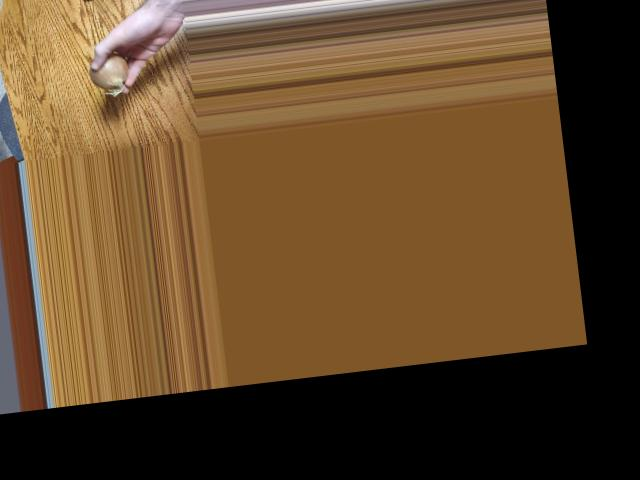onion: (87, 50, 128, 91)
